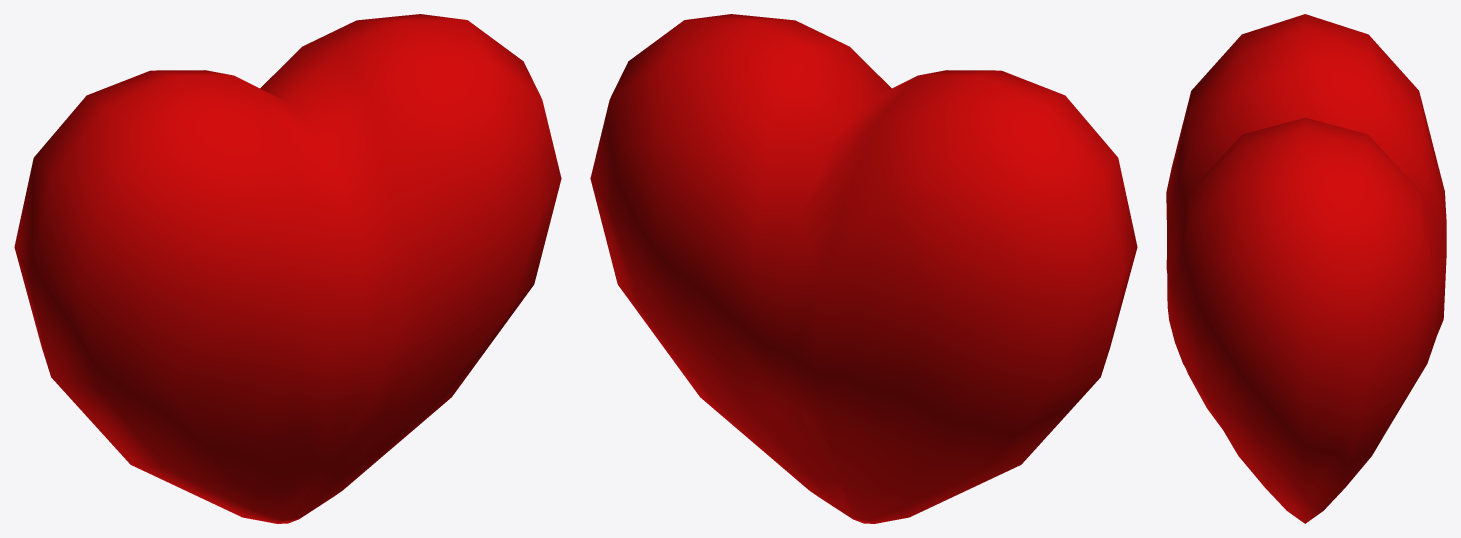
File: SM_HeartIcon.FBX
3 renders of one model, left to right at view 1: azimuth 30°, elevation 25°; view 2: azimuth 150°, elevation 25°; view 3: azimuth 270°, elevation 25°, orthographic. The views are drawn at different scales.
Parts seen in each view (by area): view 1: HeartIcon; view 2: HeartIcon; view 3: HeartIcon.
Boxes of the visible parts, <box> form: HeartIcon: <box>14,14,561,523</box>; HeartIcon: <box>590,14,1137,523</box>; HeartIcon: <box>1166,14,1446,523</box>.
Size of the model in its own units: 44.63 by 22.69 by 39.02.
